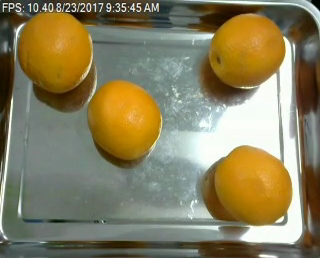Orange: (214, 143, 293, 225), (16, 11, 93, 91), (86, 79, 161, 159), (207, 12, 284, 88)
